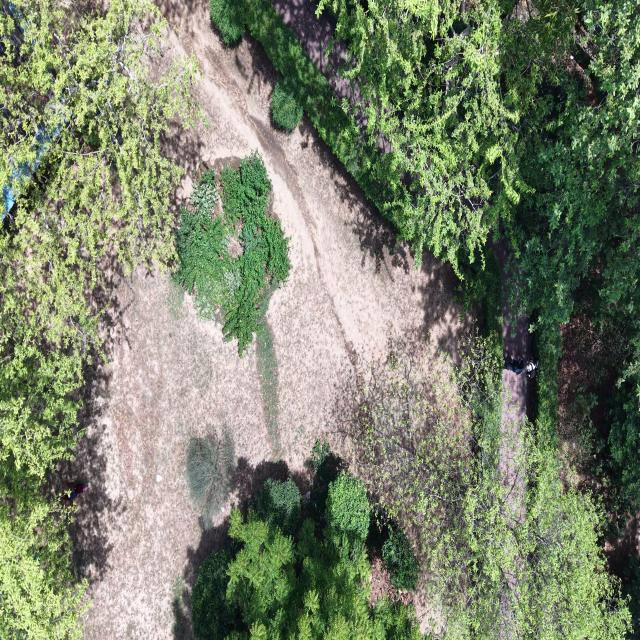DRY_AREA: (57, 0, 462, 639), (165, 3, 460, 423), (63, 270, 268, 638), (272, 0, 367, 134), (557, 314, 624, 487), (558, 315, 624, 486), (557, 315, 621, 485), (272, 0, 361, 105), (272, 0, 361, 104), (273, 0, 350, 98), (499, 367, 530, 526), (500, 367, 531, 522), (491, 239, 531, 359), (500, 366, 530, 523), (500, 369, 530, 522), (502, 368, 530, 449), (604, 513, 639, 575), (503, 284, 531, 359), (502, 368, 530, 423)
PATHWAYS: (501, 369, 530, 519)
VEGETATION_TREE: (194, 0, 639, 638), (247, 0, 639, 534), (326, 0, 639, 508), (247, 0, 639, 367), (0, 0, 197, 638), (326, 0, 639, 351), (317, 0, 639, 329), (0, 0, 197, 477), (350, 338, 630, 639), (351, 338, 630, 638), (246, 0, 520, 273), (246, 0, 517, 272), (506, 2, 639, 538), (510, 2, 639, 519), (357, 406, 629, 638), (316, 0, 523, 272), (505, 0, 639, 328), (349, 337, 501, 597), (194, 472, 420, 639), (453, 432, 630, 638), (244, 0, 393, 211), (558, 309, 639, 629), (514, 435, 631, 638), (176, 151, 290, 355), (559, 306, 639, 534), (0, 475, 88, 639), (175, 171, 238, 317), (227, 511, 297, 638), (595, 377, 639, 512), (367, 495, 420, 597), (186, 432, 235, 528), (455, 246, 503, 344), (192, 549, 236, 639), (307, 440, 345, 528), (325, 472, 369, 540), (255, 479, 301, 534), (382, 528, 418, 590), (271, 79, 302, 131), (210, 0, 245, 45), (623, 554, 639, 629), (310, 440, 337, 474)
